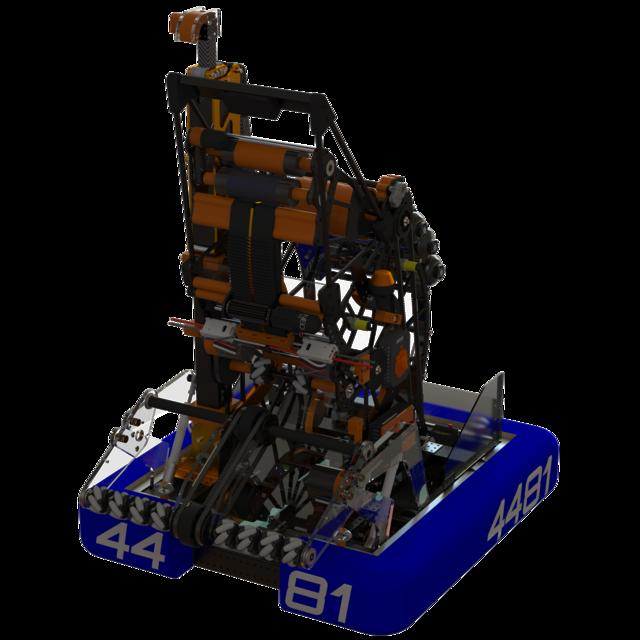robot: (65, 0, 568, 637)
